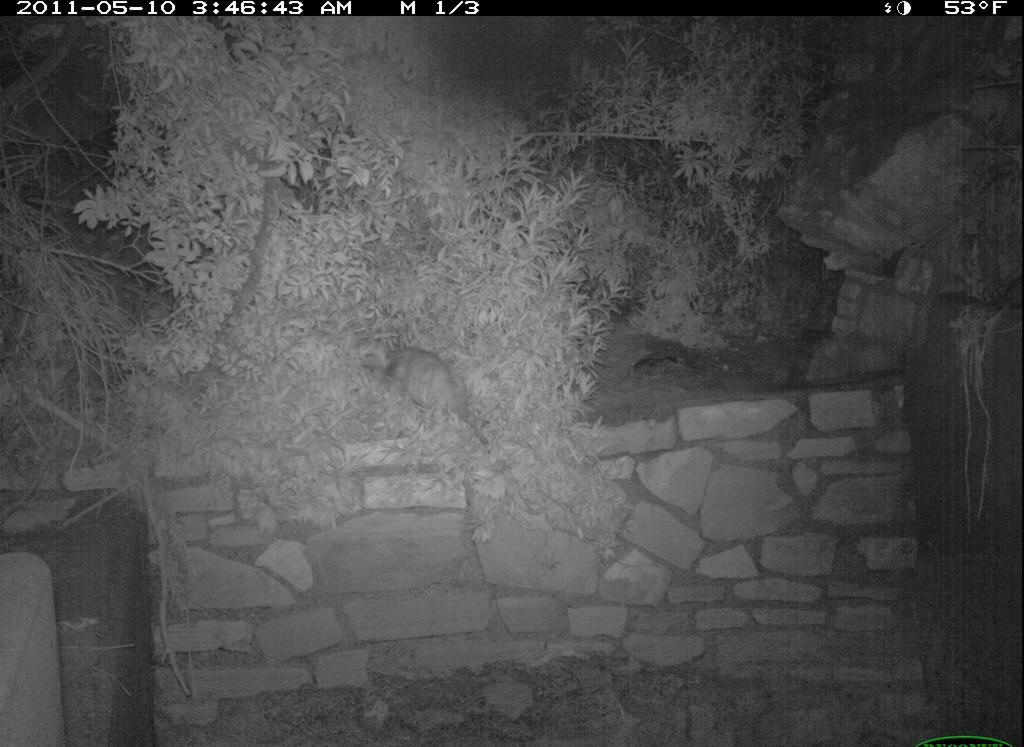opossum: (344, 324, 511, 452)
